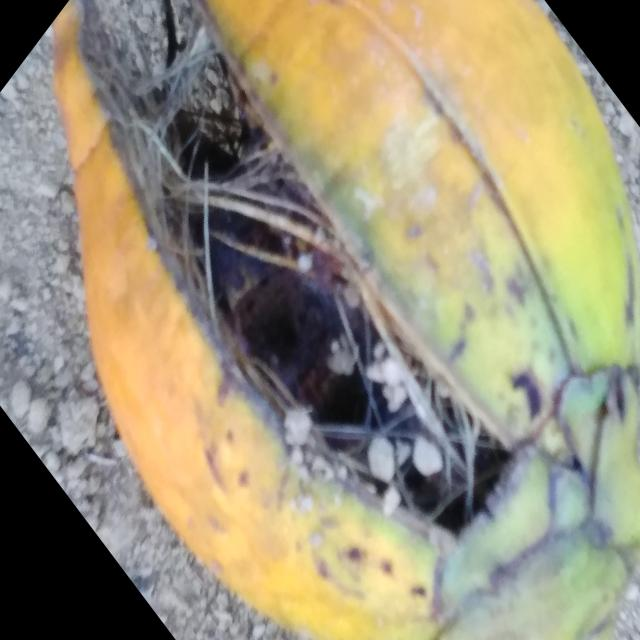damaged: (54, 0, 640, 640)
